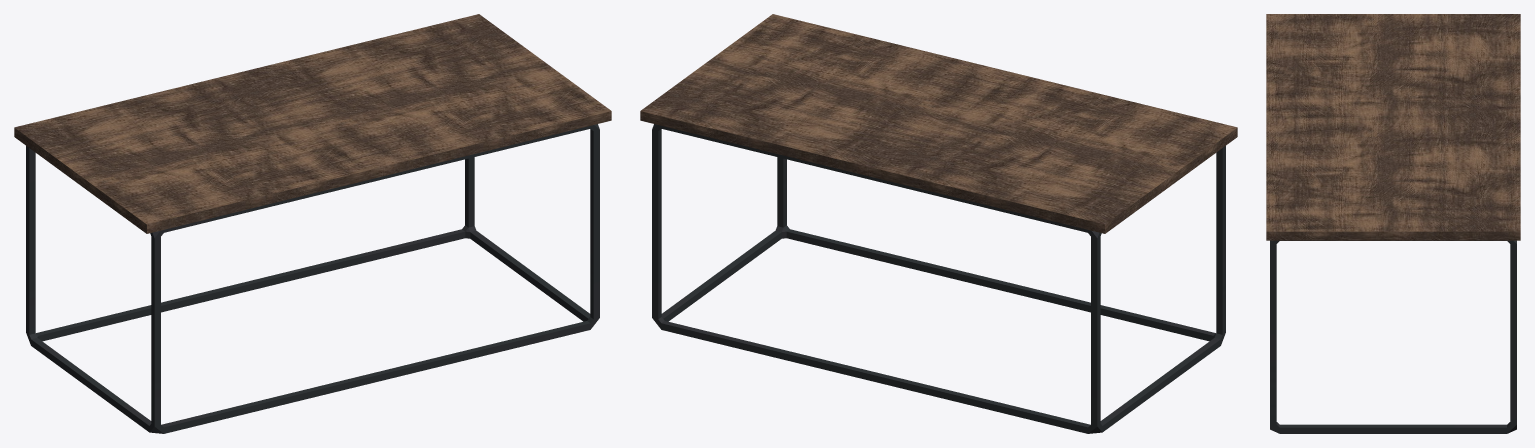
3 views of the same model, side by side, from view 1: azimuth 30°, elevation 25°; view 2: azimuth 150°, elevation 25°; view 3: azimuth 270°, elevation 25° (orthographic). The views are drawn at different scales.
Visible parts, largest first — view 1: Plane; view 2: Plane; view 3: Plane.
Part boxes in pixels (x1,y1,x2,y2): Plane: (14,14,611,433); Plane: (640,14,1237,433); Plane: (1266,14,1520,433).
Size of the model in its own units: 1.47 by 0.6497 by 0.7245.
2 materials, 2 textured.
